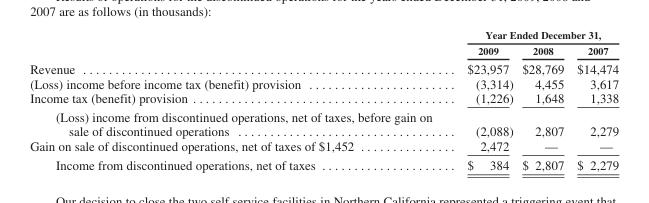table: (29, 28, 618, 171)
table column: (29, 28, 449, 171), (449, 28, 517, 171), (517, 28, 569, 171), (569, 28, 618, 171)
table column header: (29, 28, 618, 58)
table row: (29, 107, 618, 138), (29, 58, 618, 76), (29, 90, 618, 107), (29, 154, 618, 171), (29, 42, 618, 58), (29, 138, 618, 154), (29, 28, 618, 42), (29, 76, 618, 90)
table spanning cell: (449, 28, 618, 42)
